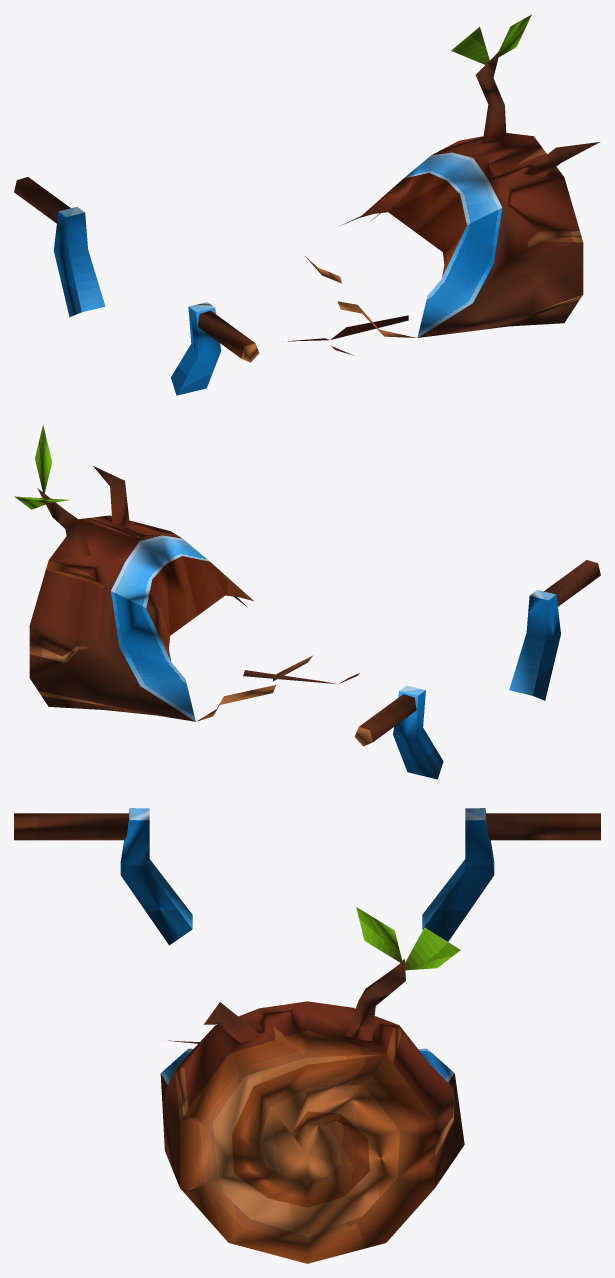
File: TreeHugger_Power2.glb
3 views of the same model, one above another, from view 1: azimuth 30°, elevation 25°; view 2: azimuth 150°, elevation 25°; view 3: azimuth 270°, elevation 25° (orthographic). The views are drawn at different scales.
Parts seen in each view (by area): view 1: TreeHugger_Power2; view 2: TreeHugger_Power2; view 3: TreeHugger_Power2.
Part boxes in pixels (left/top/right/bottom): TreeHugger_Power2: left=14, top=14, right=599, bottom=395; TreeHugger_Power2: left=14, top=424, right=600, bottom=779; TreeHugger_Power2: left=14, top=808, right=600, bottom=1263.
Size of the model in its own units: 6.12 by 3.81 by 5.51.
1 material, 1 textured.
